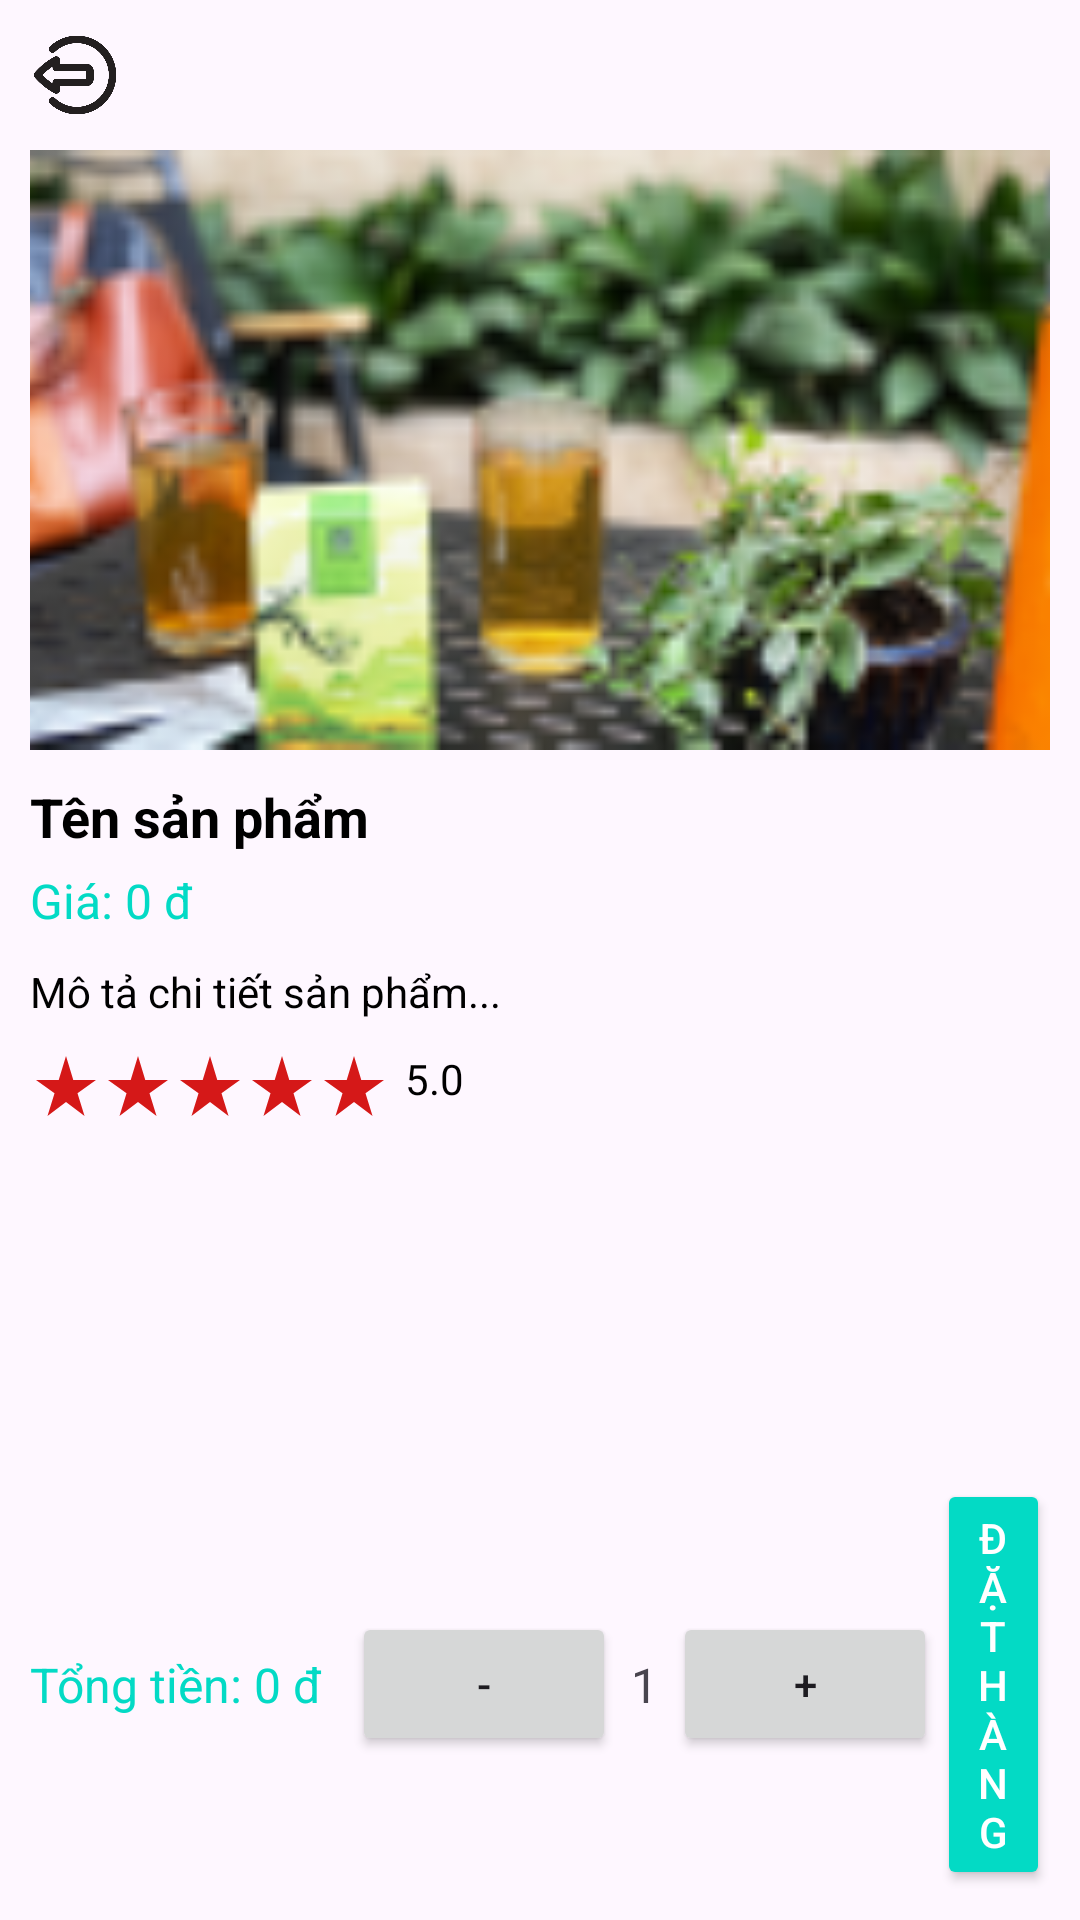

Icons on this 1080w x 1920h Android screen, each with its box as (x1, y1, x2, y2):
exit: (34, 36, 116, 114)
star rate: (36, 1056, 96, 1116), (108, 1056, 168, 1116), (180, 1056, 240, 1116), (252, 1056, 312, 1116), (324, 1056, 384, 1116)
